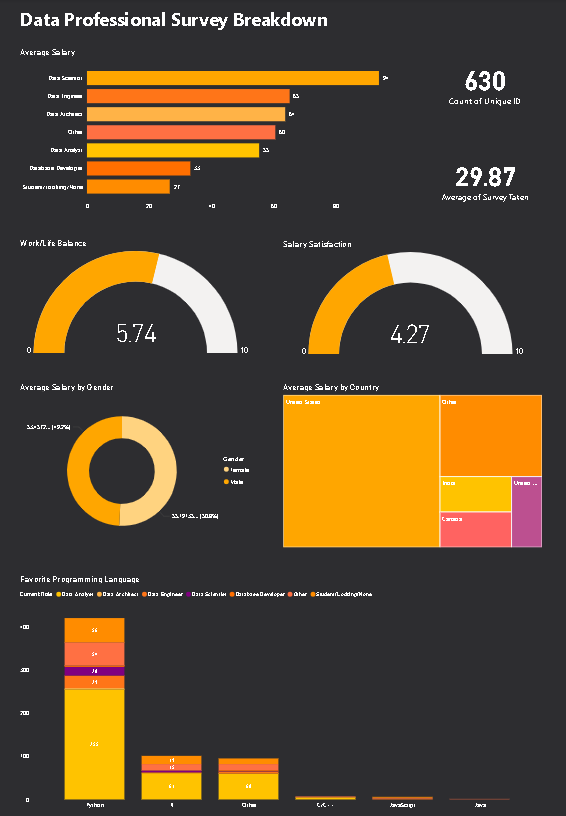

What the dashboard file says about the page in this screenshot:
{"tool":"powerbi","page":{"name":"Page 1","canvas":[1200,1800],"ordinal":0},"visuals":[{"type":"card","fields":{"Values":["Count(Data Professional Survey.Unique ID)"]},"box":[900,100.8,251,150.2],"z":0},{"type":"card","fields":{"Values":["Avg(Data Professional Survey.Q10 - Current Age)"]},"box":[900,300.5,251,150.2],"z":1000},{"type":"barChart","title":"Average Salary ","fields":{"Category":["Data Professional Survey.Q1 - Which Title Best Fits your Current Role?.1"],"Y":["Avg(Data Professional Survey.Avg Salary)"]},"box":[50,100,800,350],"z":2000},{"type":"columnChart","title":"Favorite Programming Language","fields":{"Category":["Data Professional Survey.Q5 - Favorite Programming Language.1"],"Y":["Count(Data Professional Survey.Unique ID)"],"Series":["Data Professional Survey.Q1 - Which Title Best Fits your Current Role?.1"]},"box":[50,1200,1099.2,500.2],"z":3000},{"type":"treemap","title":"Average Salary by Country","fields":{"Group":["Data Professional Survey.Q11 - Which Country do you live in?.1"],"Values":["Sum(Data Professional Survey.Avg Salary)"]},"box":[600,800,550,350],"z":4000},{"type":"gauge","title":"Work/Life Balance","fields":{"Y":["Avg(Data Professional Survey.Q6 - How Happy are you in your Current Position with the following? (Work/Life Balance))"],"MinValue":["Min(Data Professional Survey.Q6 - How Happy are you in your Current Position with the following? (Work/Life Balance))1"],"MaxValue":["Max(Data Professional Survey.Q6 - How Happy are you in your Current Position with the following? (Work/Life Balance))2"]},"box":[50,500,500,250],"z":5000},{"type":"gauge","title":"Salary Satisfaction","fields":{"Y":["Avg(Data Professional Survey.Q6 - How Happy are you in your Current Position with the following? (Salary))"],"MinValue":["Min(Data Professional Survey.Q6 - How Happy are you in your Current Position with the following? (Salary))"],"MaxValue":["Max(Data Professional Survey.Q6 - How Happy are you in your Current Position with the following? (Salary))"]},"box":[600,500.2,549.6,250.1],"z":6000},{"type":"donutChart","fields":{"Category":["Data Professional Survey.Q9 - Male/Female?"],"Y":["Avg(Data Professional Survey.Avg Salary)"]},"box":[50,800,500,350],"z":7000},{"type":"textbox","box":[50,10,667.1,70],"z":8000}]}

Visuals, with their boxes in screenshot pixels (x1, y1, x2, y2):
card - Count(Data Professional Survey.Unique ID): crop(431, 107, 539, 172)
card - Avg(Data Professional Survey.Q10 - Current Age): crop(431, 193, 539, 258)
"Average Salary " barChart: crop(64, 107, 409, 258)
"Favorite Programming Language" columnChart: crop(64, 581, 538, 797)
"Average Salary by Country" treemap: crop(301, 409, 538, 560)
"Work/Life Balance" gauge: crop(64, 279, 280, 387)
"Salary Satisfaction" gauge: crop(301, 279, 538, 387)
donutChart - Data Professional Survey.Q9 - Male/Female? x Avg(Data Professional Survey.Avg Salary): crop(64, 409, 280, 560)
textbox: crop(64, 68, 352, 98)
